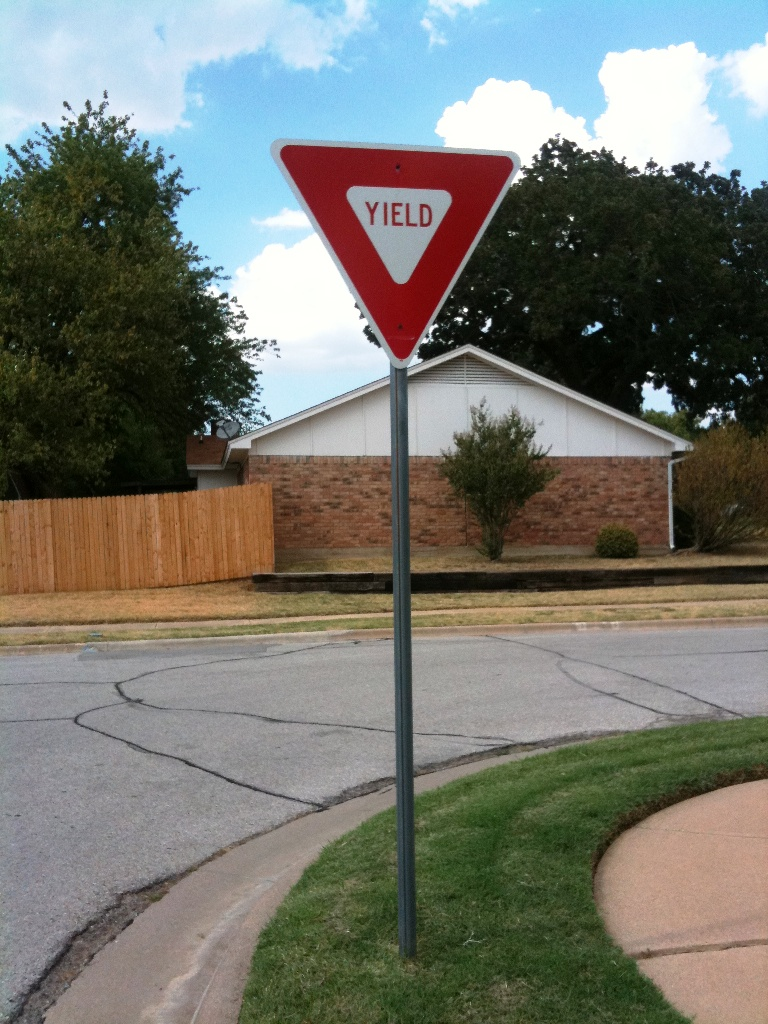yield_sign: (268, 134, 522, 360)
